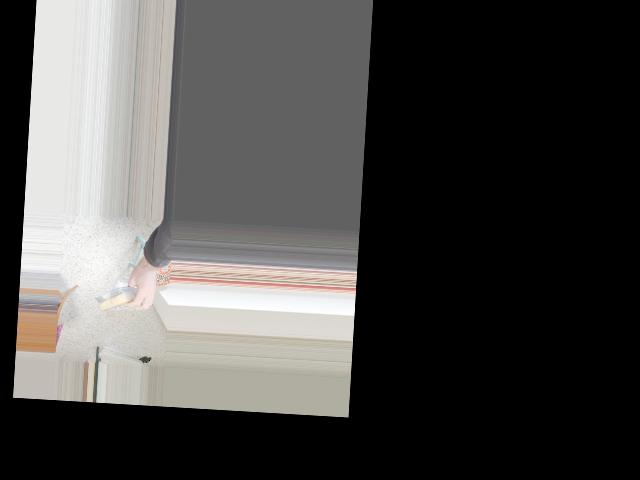cheese: (92, 282, 155, 313)
